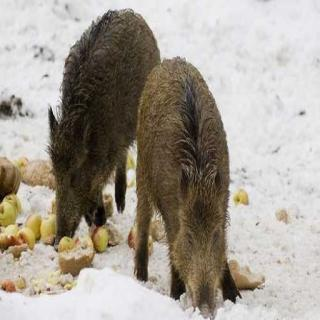Pig: (118, 40, 238, 320), (40, 0, 144, 262)
